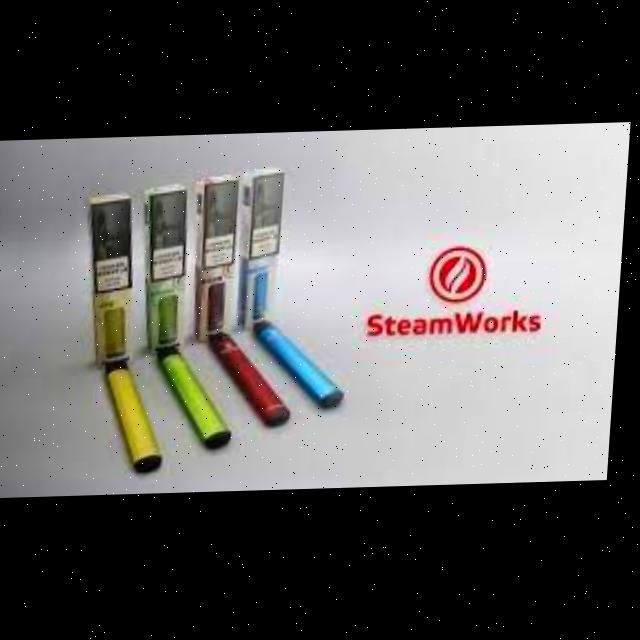vape: (252, 320, 355, 415), (208, 331, 302, 433), (156, 345, 244, 452), (104, 359, 174, 477)
